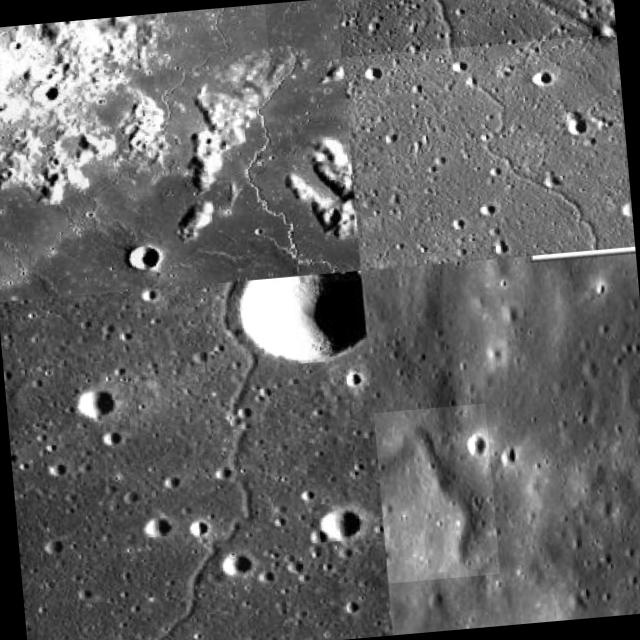rille: (8, 276, 322, 640), (341, 0, 633, 267), (227, 0, 356, 260), (0, 81, 150, 300), (373, 403, 500, 583), (148, 3, 274, 132), (336, 0, 600, 57)
